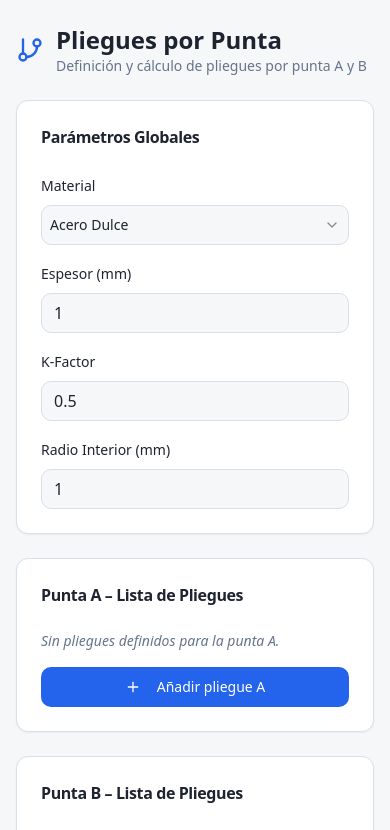
Test: PlieguesPorPuntaPage — caracterización del comportamiento actual › (3) pliegue nuevo sin editar (L=0, 90°): total punta negativo −2.36
The image size is (390, 830).
Click the button "Añadir pliegue A" at (195, 687), box [41, 667, 349, 707]
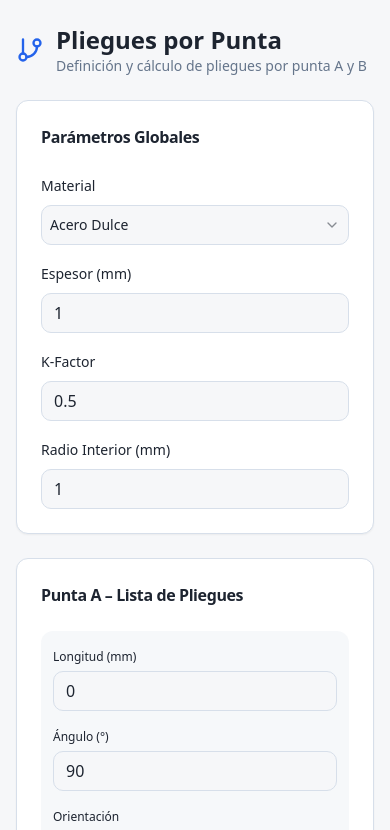
Expected: the number field below "Longitud (mm)" holds "0", [53, 671, 337, 711]
Expected: the number field below "Ángulo (°)" holds "90", [53, 751, 337, 791]
